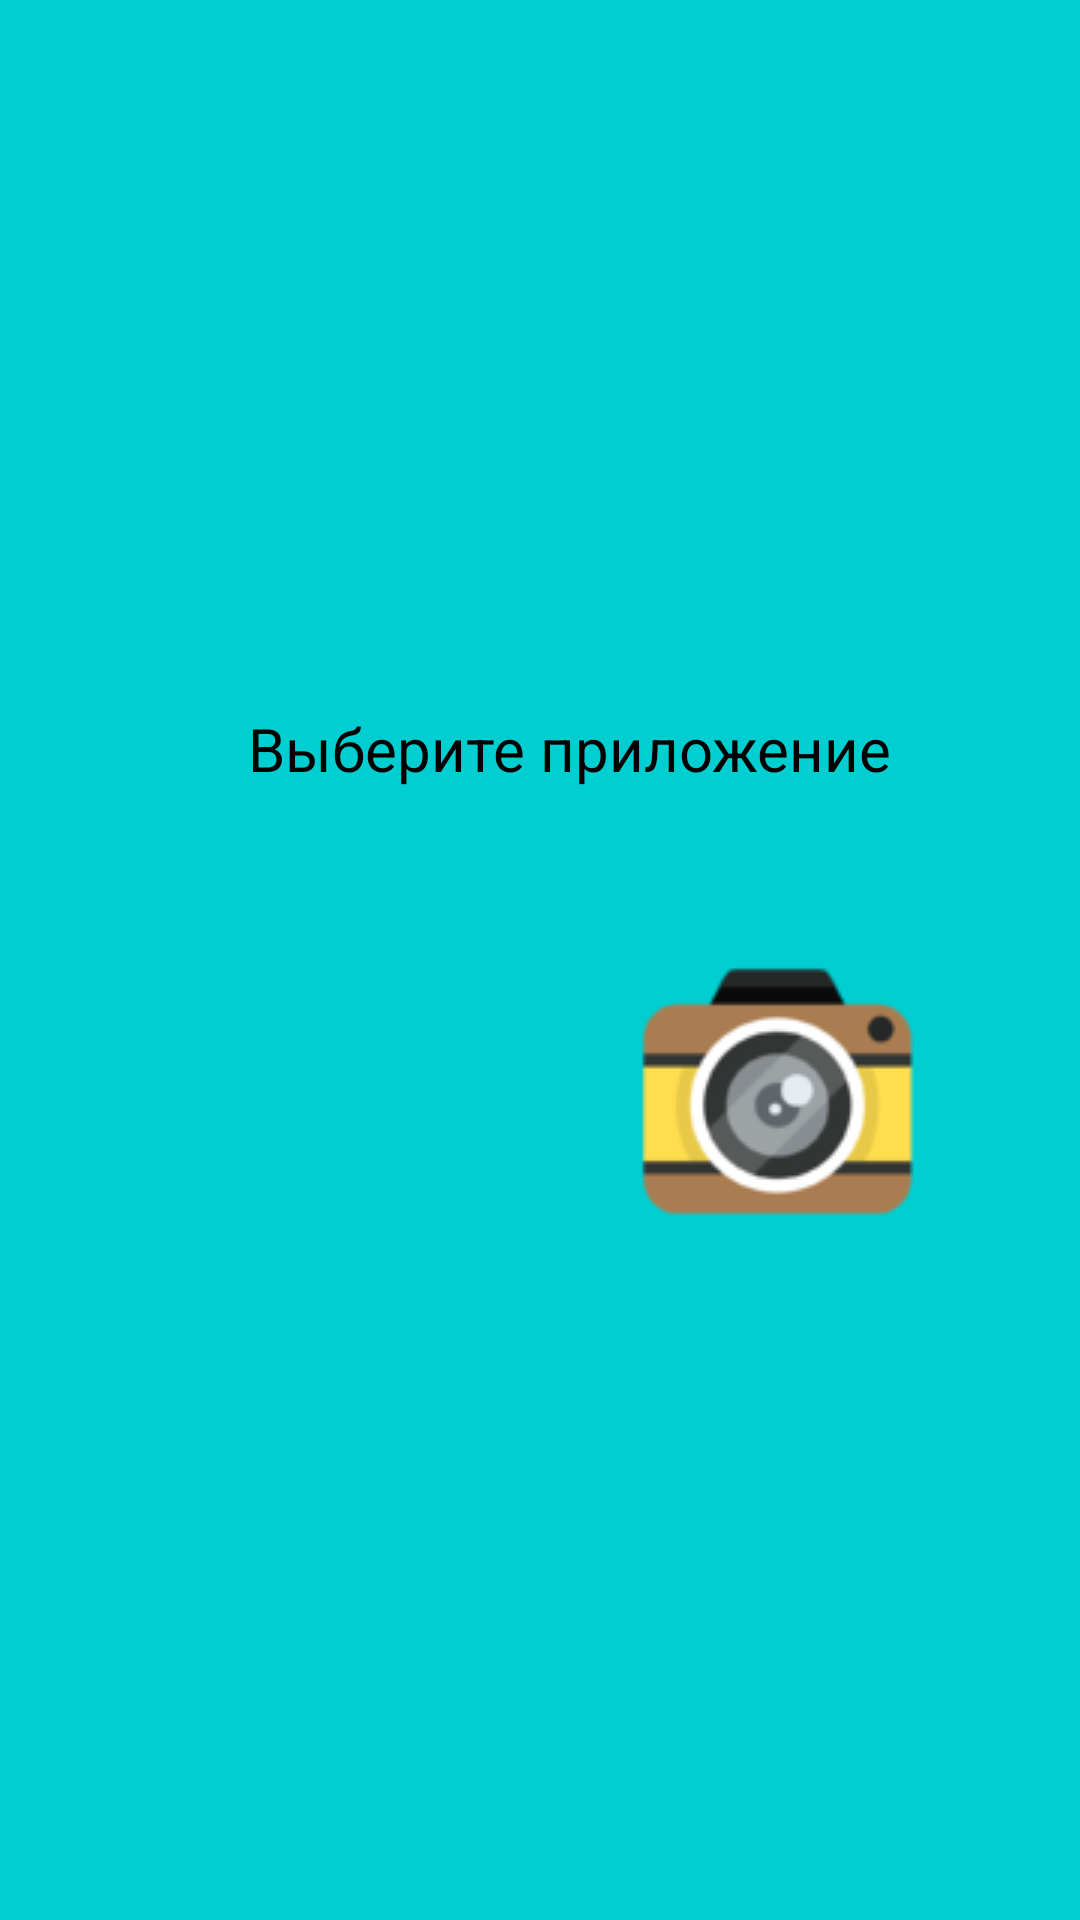

Icon click points for this 1080×1920 phone screenshot, format [x,y]:
camera: [778,1092]
